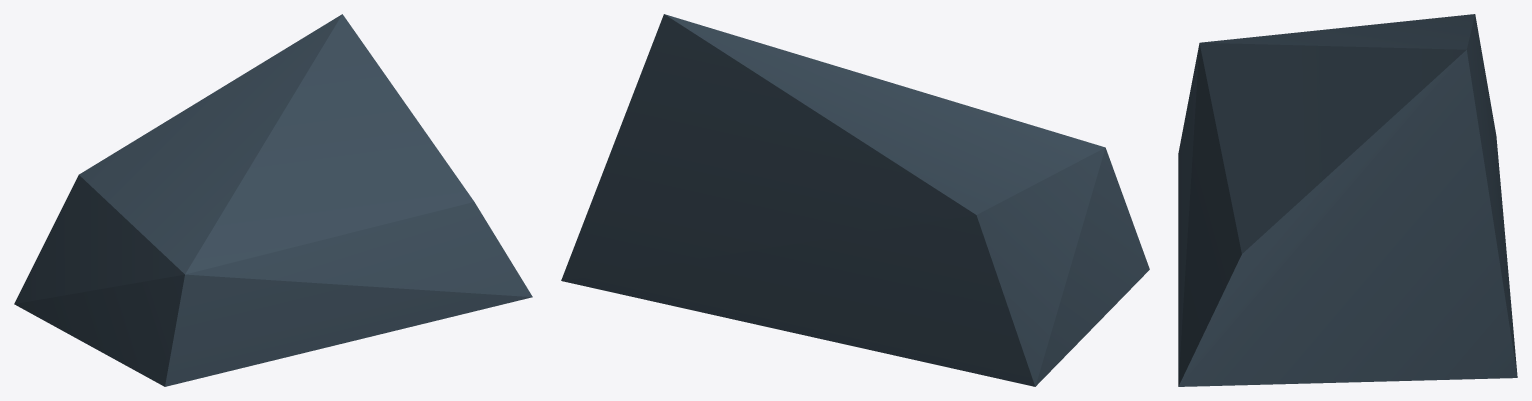
Rendered from talus-shard.glb.
The picture shows the model from 3 angles, left to right: view 1: azimuth 30°, elevation 25°; view 2: azimuth 150°, elevation 25°; view 3: azimuth 270°, elevation 25°; orthographic projection. The views are drawn at different scales.
Parts seen in each view (by area): view 1: talus-shard; view 2: talus-shard; view 3: talus-shard.
Part boxes in pixels (bbox=[...]): talus-shard: bbox=[14, 14, 532, 386]; talus-shard: bbox=[561, 14, 1149, 386]; talus-shard: bbox=[1178, 14, 1517, 386].
Size of the model in its own units: 1.5 by 0.8 by 0.8571.
